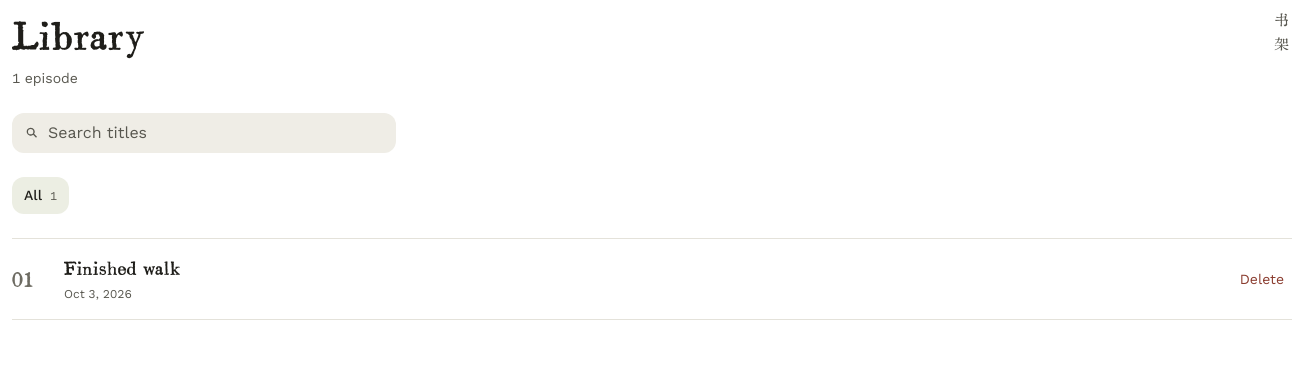
LocalLibraryPage › deletes only after a confirmation that explains what is removed and what stays
Click the button with aria-label "Delete Finished walk": [1262, 279] box x1=1232 y1=261 x2=1292 y2=297
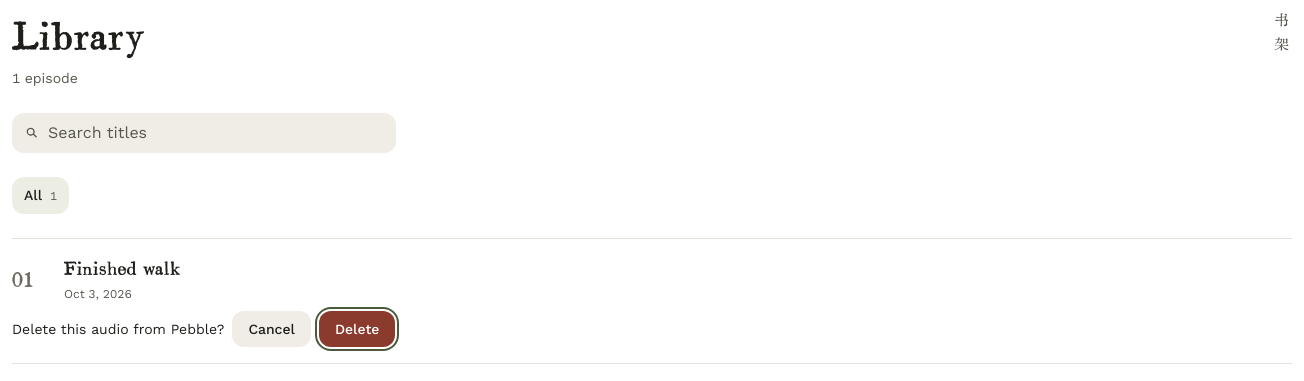
Now the text "Delete this audio from Pebble?" is shown, box x1=12 y1=319 x2=224 y2=340
Click the button "Delete": [357, 329] box x1=319 y1=311 x2=395 y2=347
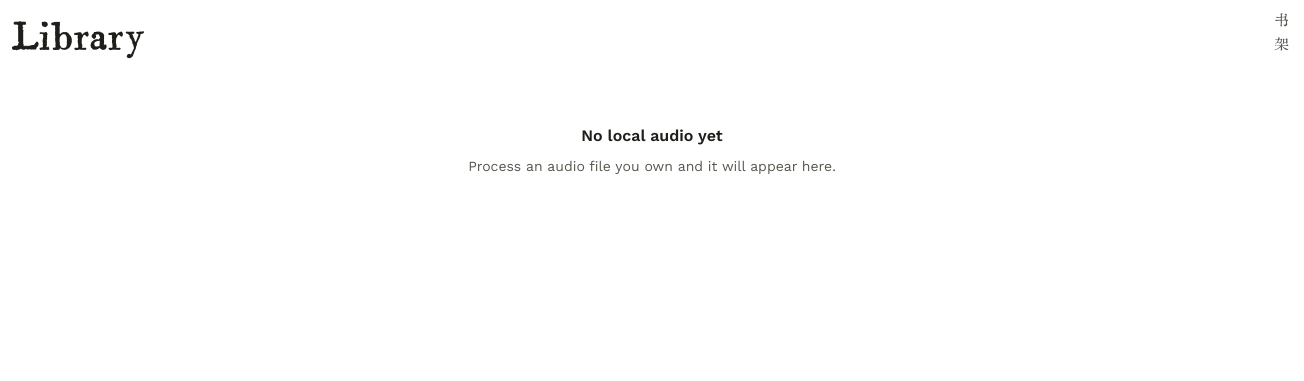
Now the text "No local audio yet" is shown, box x1=581 y1=124 x2=723 y2=148
